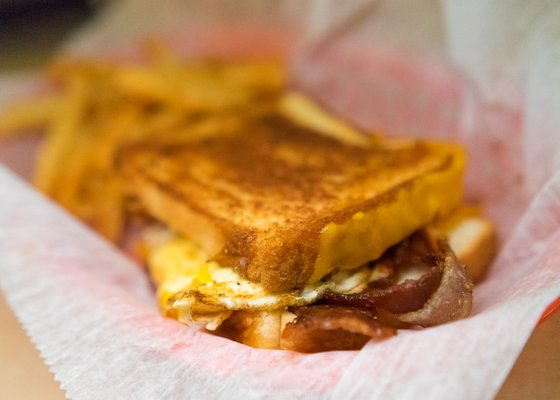soup: (109, 95, 488, 352)
